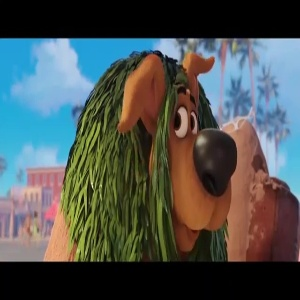Scooby: (130, 41, 243, 238)
